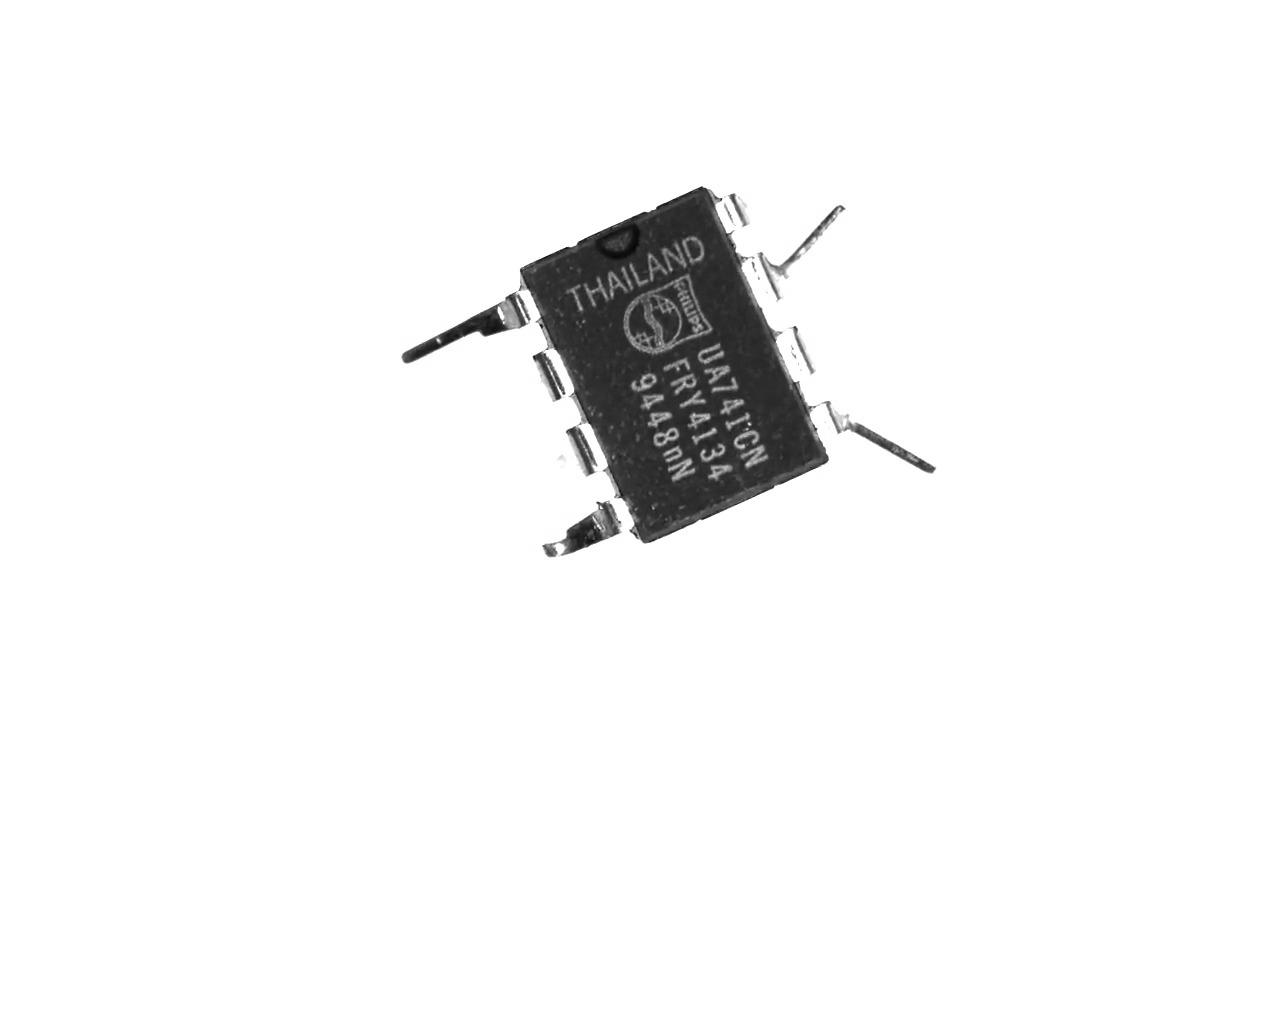Leg: (742, 201, 851, 306), (393, 281, 526, 367), (808, 396, 940, 479), (516, 491, 642, 559), (559, 420, 614, 482), (768, 319, 817, 386), (521, 349, 579, 403), (715, 187, 765, 237)
